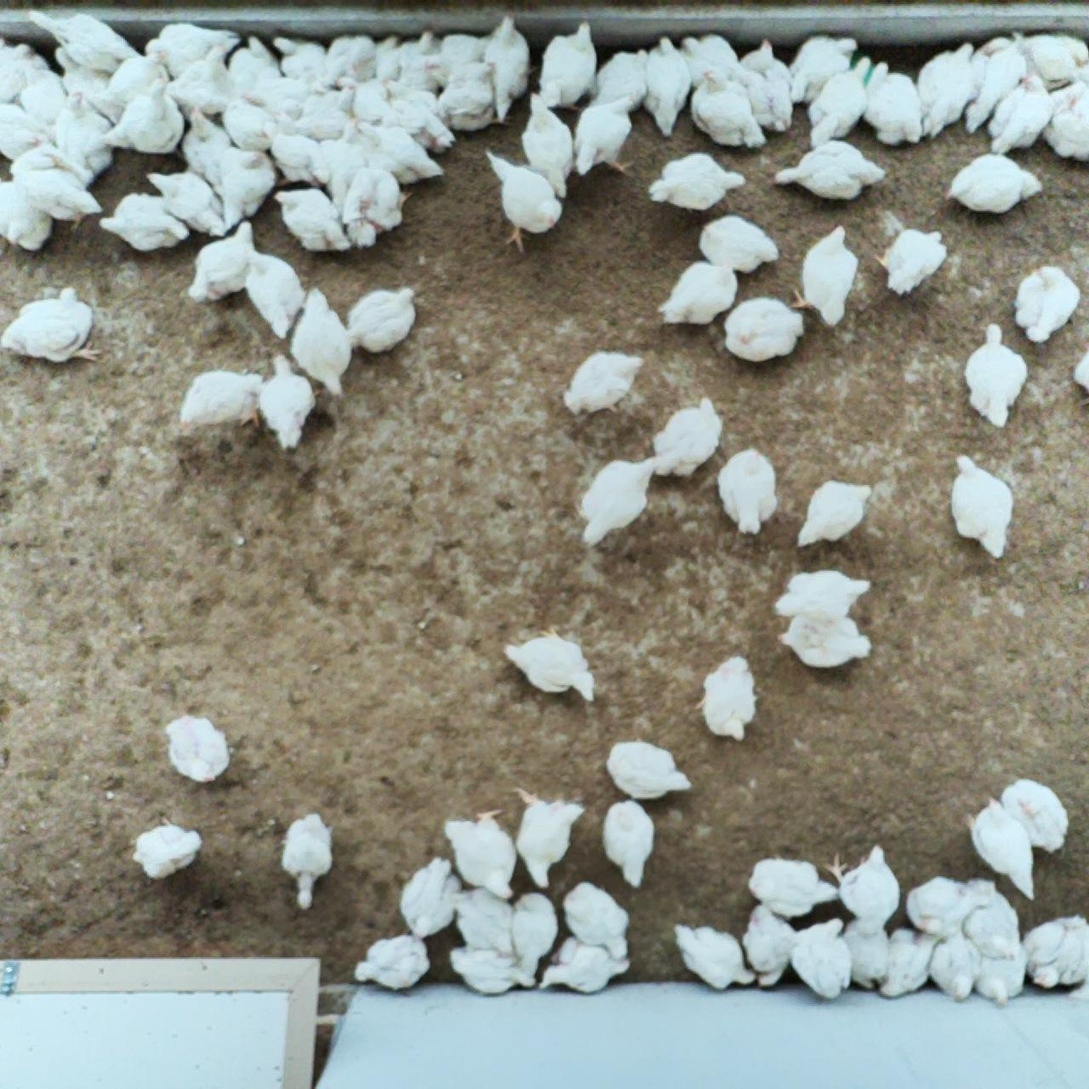chicken: (482, 147, 566, 253), (7, 144, 105, 232), (24, 7, 149, 74), (0, 286, 105, 364), (507, 783, 582, 889), (499, 627, 601, 703), (962, 798, 1036, 899), (789, 224, 860, 329), (961, 322, 1031, 428), (577, 458, 660, 547), (954, 37, 1037, 126), (291, 287, 357, 397), (950, 450, 1016, 559), (773, 141, 888, 201), (445, 808, 517, 900), (105, 74, 187, 153), (745, 853, 841, 920), (825, 844, 903, 926), (652, 396, 728, 480), (943, 151, 1047, 212), (480, 14, 541, 118), (807, 56, 875, 149), (532, 19, 600, 111), (779, 606, 874, 671), (689, 72, 767, 151), (165, 43, 249, 116), (649, 152, 746, 215), (766, 565, 874, 620), (355, 120, 443, 187), (521, 93, 575, 202), (531, 935, 634, 992), (438, 56, 515, 132), (187, 222, 262, 300), (738, 40, 797, 139), (673, 920, 757, 989), (258, 355, 319, 450), (148, 21, 246, 80), (571, 94, 639, 179), (640, 35, 696, 138), (916, 42, 976, 138), (148, 169, 231, 238), (176, 370, 265, 434), (104, 39, 177, 117), (788, 914, 854, 1000), (560, 351, 644, 417), (1013, 262, 1083, 341), (564, 882, 633, 962), (246, 251, 310, 337), (694, 655, 757, 742), (724, 298, 805, 365), (53, 91, 118, 174), (741, 905, 804, 990), (863, 61, 928, 143), (999, 777, 1068, 854), (99, 192, 189, 251), (961, 880, 1024, 964), (717, 450, 780, 534), (608, 739, 694, 800), (795, 482, 872, 550), (659, 261, 737, 328), (985, 74, 1052, 152), (872, 228, 951, 294), (381, 81, 456, 150), (455, 884, 523, 960), (348, 173, 413, 250), (274, 188, 352, 252), (790, 33, 860, 103), (267, 109, 329, 188), (697, 213, 777, 274), (168, 711, 233, 786), (336, 74, 417, 134), (401, 857, 464, 934), (602, 799, 657, 887), (1023, 915, 1089, 988), (215, 148, 279, 223), (903, 874, 982, 934), (285, 810, 333, 908), (448, 945, 535, 999), (349, 288, 420, 354), (290, 81, 364, 144), (879, 926, 940, 1002), (1013, 31, 1089, 92), (589, 47, 653, 114), (320, 119, 368, 208), (513, 888, 559, 980), (419, 31, 489, 90), (178, 110, 231, 187), (0, 178, 54, 253), (135, 820, 200, 882), (839, 920, 895, 991), (976, 931, 1028, 1007), (358, 933, 426, 990), (274, 36, 355, 83), (226, 35, 286, 97), (323, 33, 394, 85), (1043, 80, 1089, 160), (219, 93, 278, 155), (928, 934, 980, 1001), (54, 47, 117, 101), (677, 35, 743, 86), (0, 100, 55, 161), (397, 33, 446, 97), (23, 64, 73, 123), (253, 69, 339, 103), (370, 35, 426, 87), (0, 41, 45, 102), (237, 87, 302, 129), (1070, 347, 1089, 396)
